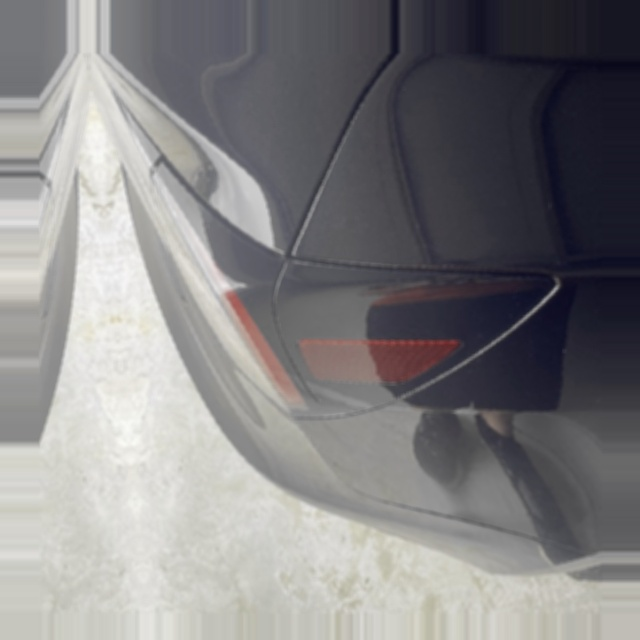reflector: (296, 322, 464, 394)
